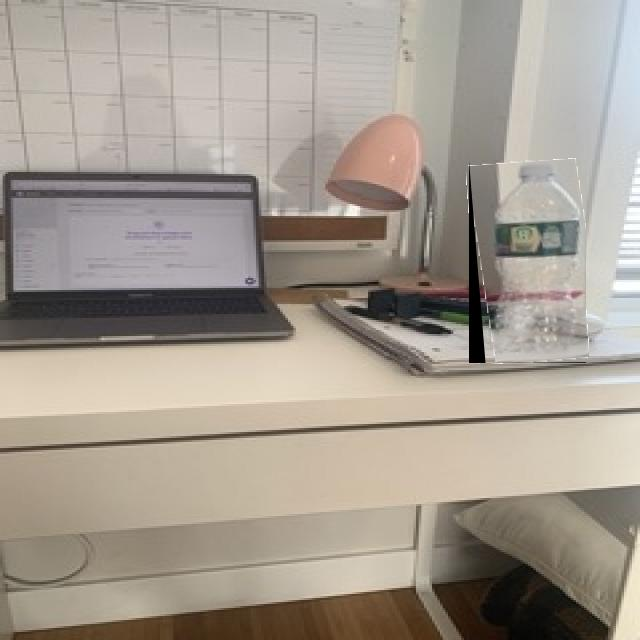water_bottle: (469, 160, 586, 363)
